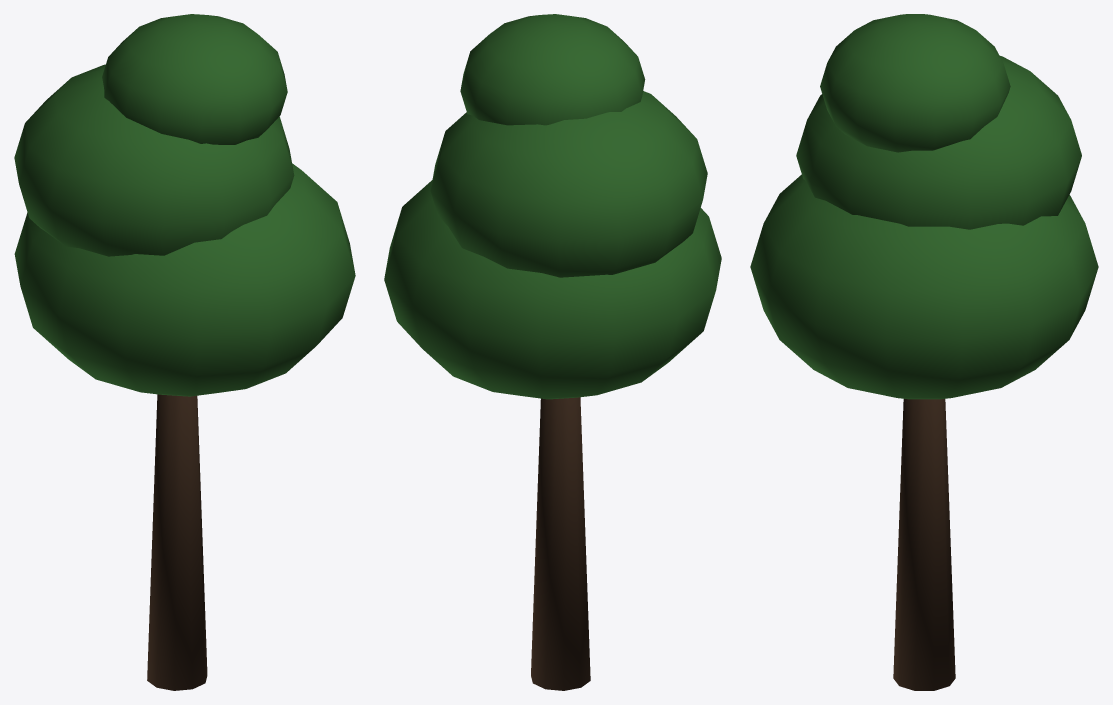
Rendered from prop_tree.obj.
The picture shows the model from 3 angles, left to right: view 1: azimuth 30°, elevation 25°; view 2: azimuth 150°, elevation 25°; view 3: azimuth 270°, elevation 25°; orthographic projection. The views are drawn at different scales.
Visible parts, largest first — view 1: Tree; view 2: Tree; view 3: Tree.
Part boxes in pixels (x1=…): Tree: x1=14, y1=14, x2=355, y2=690; Tree: x1=384, y1=14, x2=721, y2=690; Tree: x1=750, y1=14, x2=1098, y2=690.
Size of the model in its own units: 1.85 by 3.97 by 1.9.
